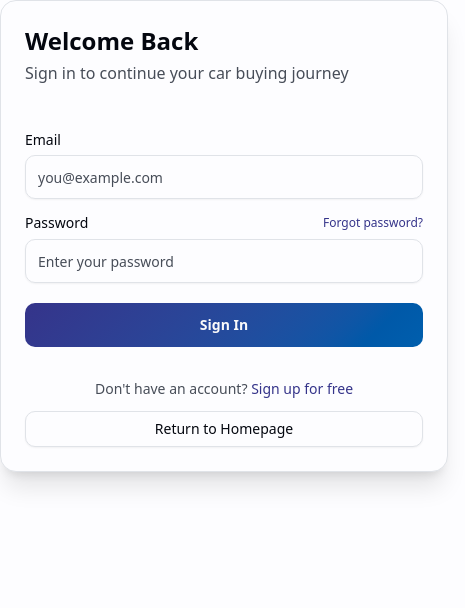
Scenario: SignInForm — Frontend Behavioral Tests › Unverified user login › does NOT falsely claim email was sent when backend says it wasn't
Type "unverified@example.com" into the field labelled "Email".
click(224, 177); type("unverified@example.com")  # box x1=25 y1=155 x2=423 y2=199
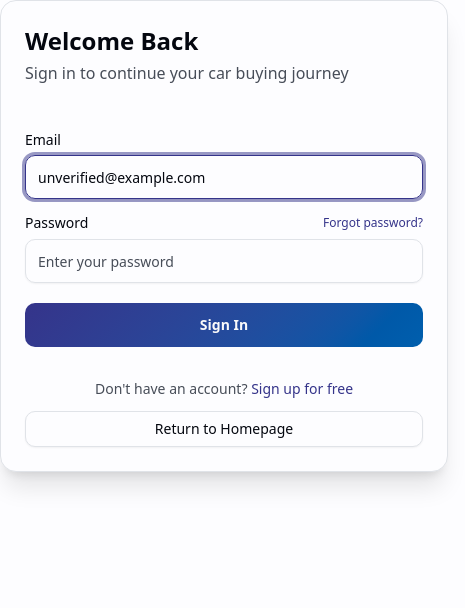
Type "password123" into the password field labelled "Password".
click(224, 261); type("password123")  # box x1=25 y1=239 x2=423 y2=283
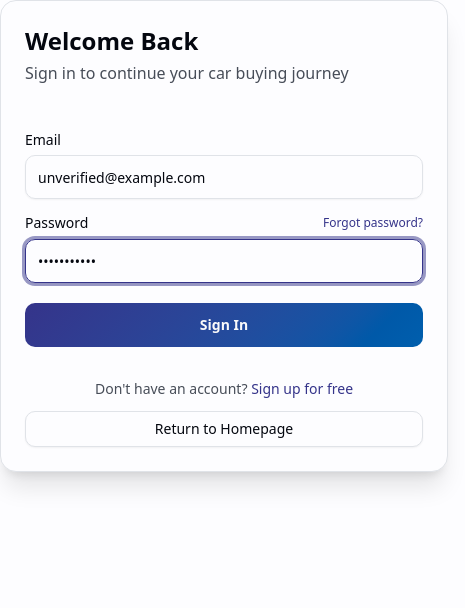
Click the button "Sign In".
click(224, 325)  # box x1=25 y1=303 x2=423 y2=347
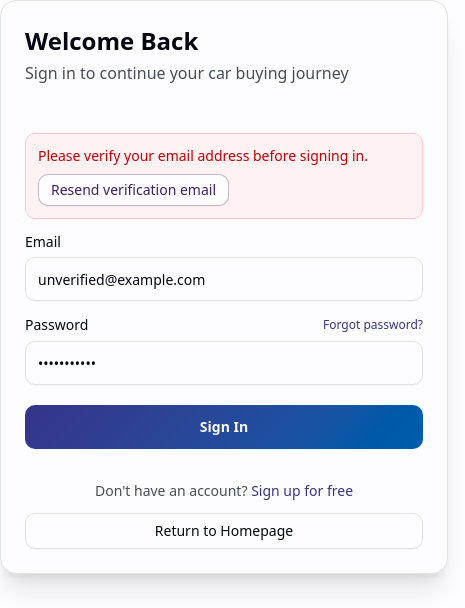
Check: the text "verify your email" is shown, box x1=38 y1=146 x2=368 y2=165
